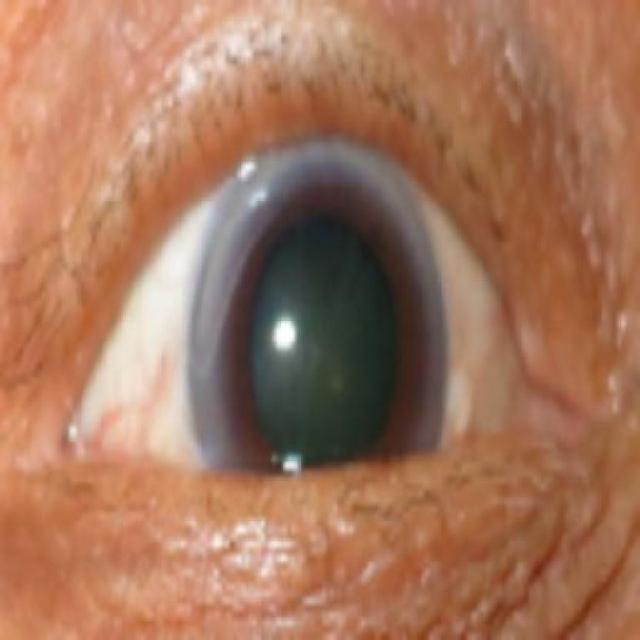Cataract: (186, 146, 452, 543)
